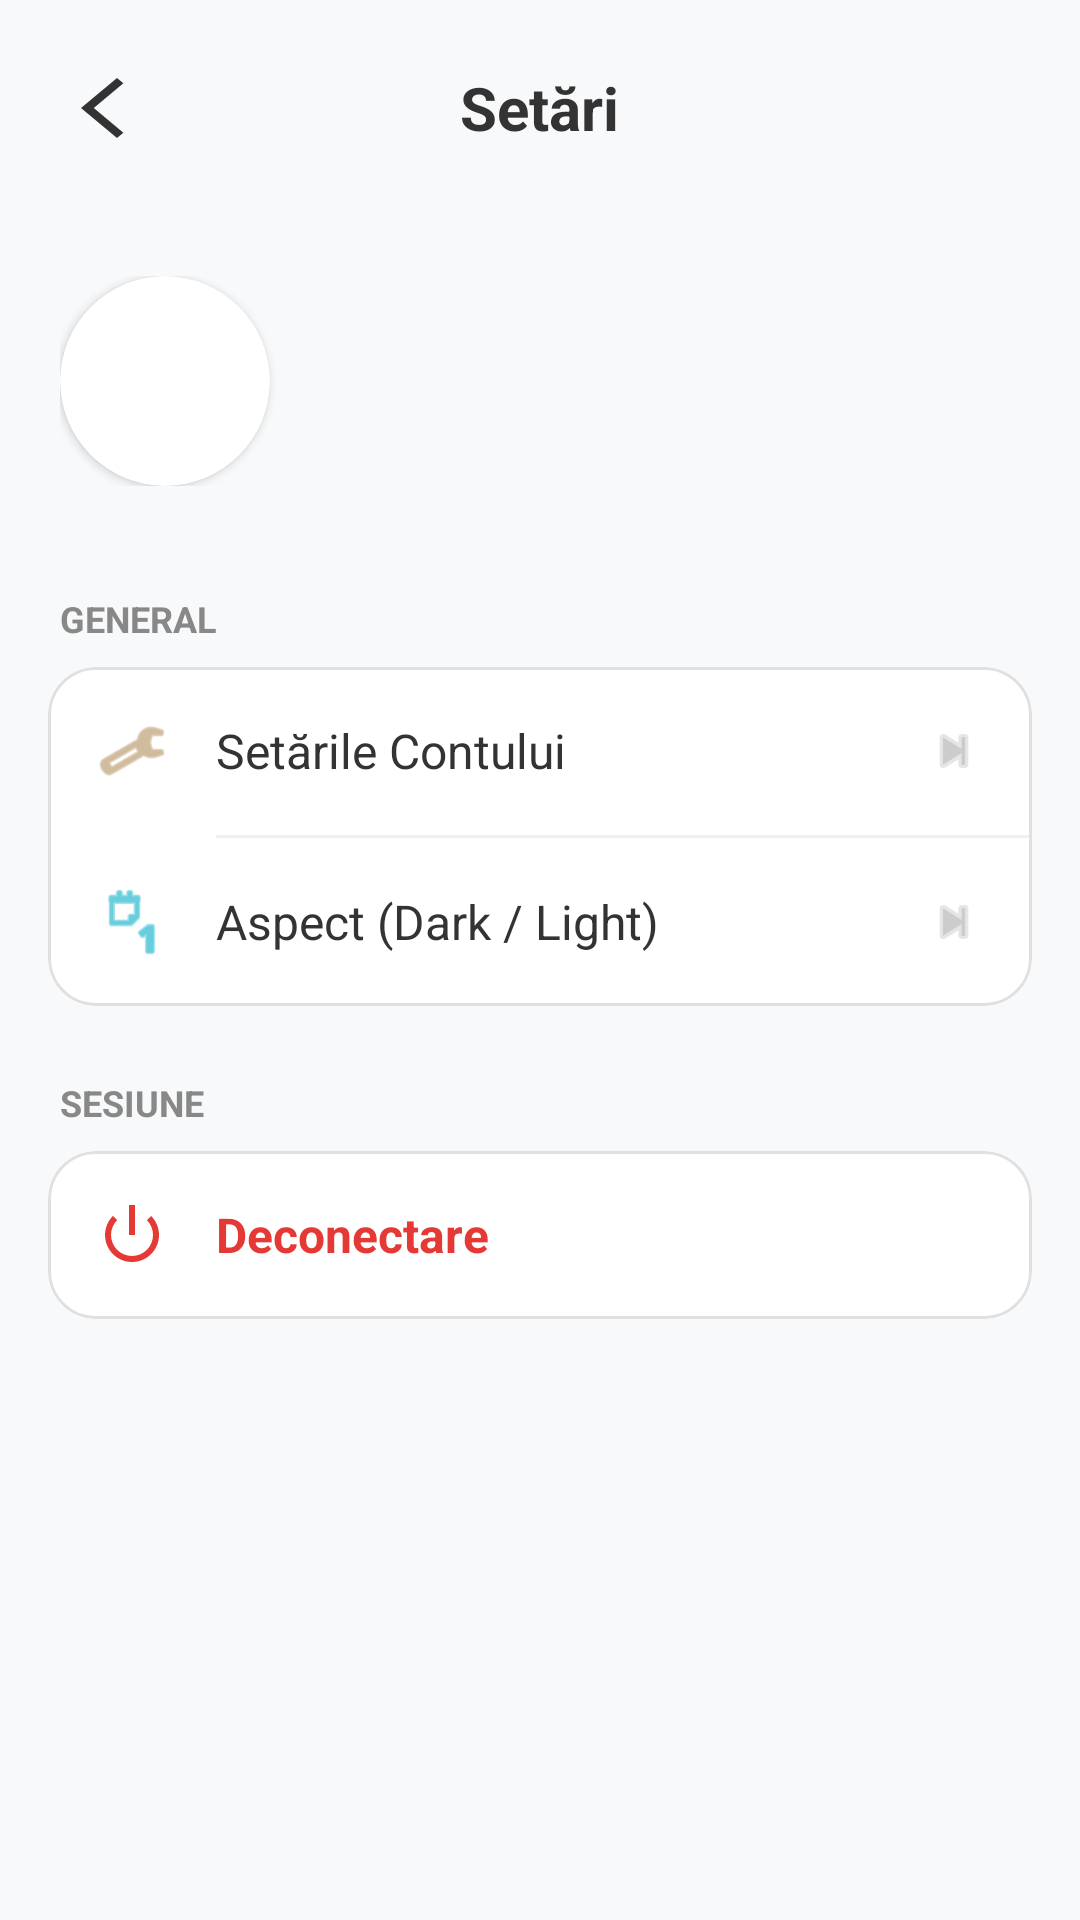

Named icons in this screenshot (1080px×1920px) and their centers, (x=x, y=y):
back: (x=102, y=108)
day: (x=131, y=922)
lock power off: (x=132, y=1233)
manage: (x=132, y=751)
next: (x=954, y=751), (x=954, y=922)
